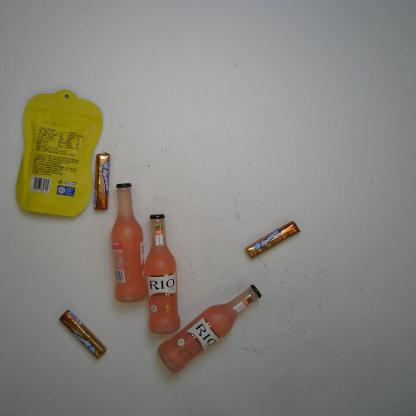Alcohol: (158, 282, 262, 374), (143, 213, 181, 335), (110, 183, 148, 304)
Candy: (58, 310, 106, 360), (244, 221, 301, 259), (94, 151, 111, 211)
Dried Fruit: (14, 89, 103, 218)
